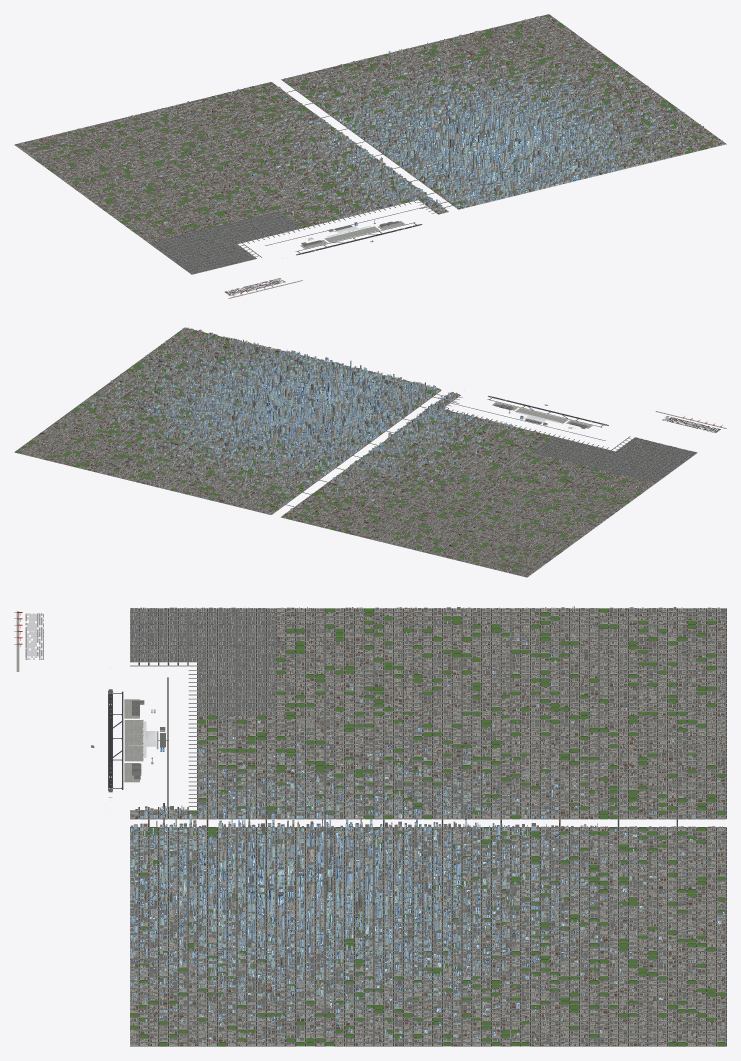
File: world.glb
The picture shows the model from 3 angles, top to bottom: view 1: azimuth 30°, elevation 25°; view 2: azimuth 150°, elevation 25°; view 3: azimuth 270°, elevation 25°; orthographic projection. The views are drawn at different scales.
Parts seen in each view (by area): view 1: City_0_1, City_2_0, City_1_1, City_3_1, City_0_2, City_-1_1, City_-2_1, City_1_0, City_3_2, City_3_0, City_-1_2, City_-2_2 (+18 smaller); view 2: City_1_1, City_0_1, City_2_1, City_3_1, City_3_2, City_0_2, City_-2_1, City_-1_1, City_2_2, City_1_2, City_-1_2, City_-2_2 (+18 smaller); view 3: City_3_1, City_2_1, City_0_1, City_3_2, City_-2_1, City_-1_1, City_0_2, City_3_0, City_2_2, City_-1_2, City_-2_2, City_2_0 (+18 smaller).
Part boxes in pixels (<box>): City_0_1: <box>260,144,394,202</box>; City_2_0: <box>483,135,605,193</box>; City_1_1: <box>346,117,476,182</box>; City_3_1: <box>515,84,647,139</box>; City_0_2: <box>214,111,343,166</box>; City_-1_1: <box>179,167,308,222</box>; City_-2_1: <box>99,187,228,242</box>; City_1_0: <box>396,151,524,214</box>; City_3_2: <box>466,50,597,103</box>; City_3_0: <box>563,121,691,173</box>; City_-1_2: <box>133,133,259,186</box>; City_-2_2: <box>52,152,178,206</box>; City_1_1: <box>290,396,417,459</box>; City_0_1: <box>372,420,500,480</box>; City_2_1: <box>213,378,332,438</box>; City_3_1: <box>129,366,255,419</box>; City_3_2: <box>85,401,210,453</box>; City_0_2: <box>327,459,452,512</box>; City_-2_1: <box>531,464,655,518</box>; City_-1_1: <box>454,445,577,498</box>; City_2_2: <box>167,418,285,472</box>; City_1_2: <box>246,434,370,492</box>; City_-1_2: <box>409,480,530,531</box>; City_-2_2: <box>486,499,607,550</box>; City_3_1: <box>277,934,443,1017</box>; City_2_1: <box>277,859,443,947</box>; City_0_1: <box>277,737,443,810</box>; City_3_2: <box>443,941,599,1017</box>; City_-2_1: <box>277,607,443,674</box>; City_-1_1: <box>277,672,443,740</box>; City_0_2: <box>443,738,599,810</box>; City_3_0: <box>130,934,276,1017</box>; City_2_2: <box>443,869,599,947</box>; City_-1_2: <box>443,672,599,740</box>; City_-2_2: <box>443,606,599,674</box>; City_2_0: <box>130,864,276,947</box>.
Size of the model in its own units: 15900 by 1520 by 10930.
33 materials, 16 textured.
